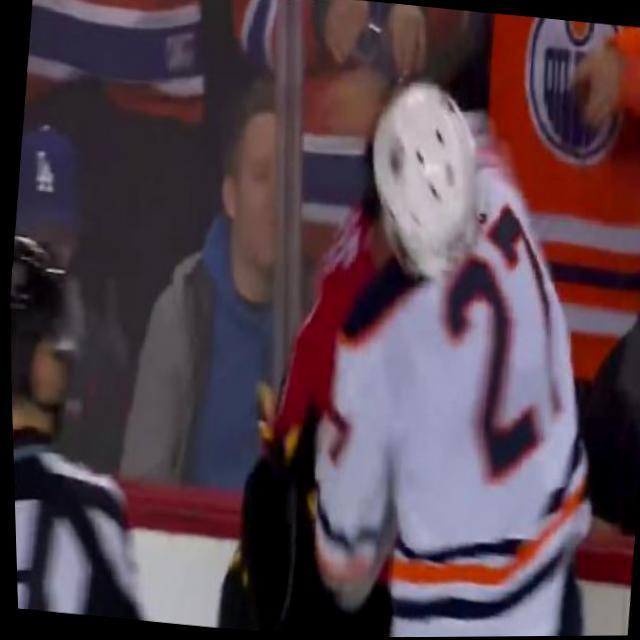fight: (185, 48, 640, 639)
